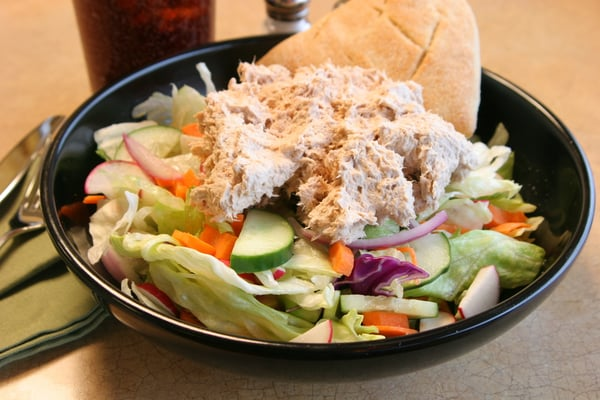pizza: (71, 0, 210, 94)
sushi: (34, 34, 595, 373)
